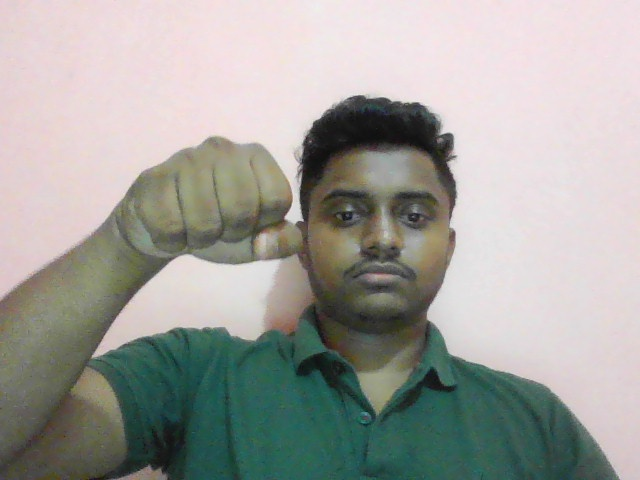Yes: (117, 133, 307, 269)
